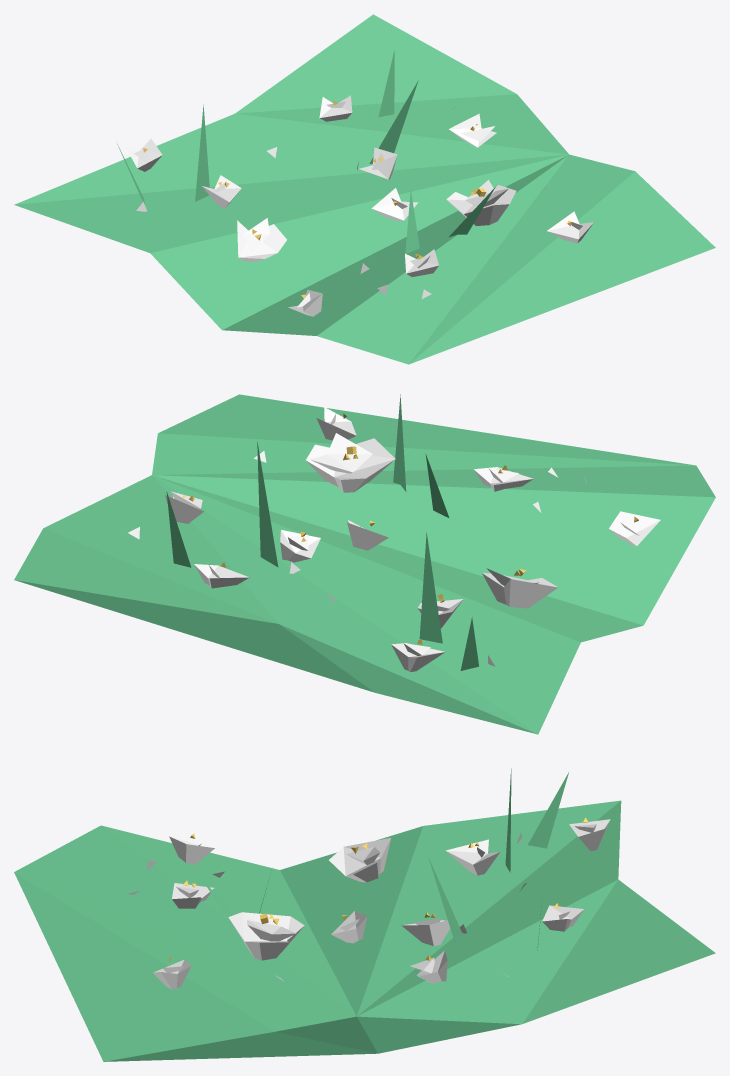
File: littleFlowers_lod2.glb
3 renders of one model, top to bottom at view 1: azimuth 30°, elevation 25°; view 2: azimuth 150°, elevation 25°; view 3: azimuth 270°, elevation 25°, orthographic. The views are drawn at different scales.
Parts seen in each view (by area): view 1: group504158168, group341377517; view 2: group504158168, group341377517; view 3: group504158168, group341377517.
Part boxes in pixels (left/top/right/bottom): group504158168: left=14, top=14, right=715, bottom=364; group341377517: left=125, top=95, right=594, bottom=316; group504158168: left=14, top=394, right=715, bottom=734; group341377517: left=128, top=407, right=660, bottom=671; group504158168: left=14, top=768, right=715, bottom=1061; group341377517: left=128, top=819, right=610, bottom=989.
Bounding box in the file's own units: 3.21 × 1.35 × 3.55.
